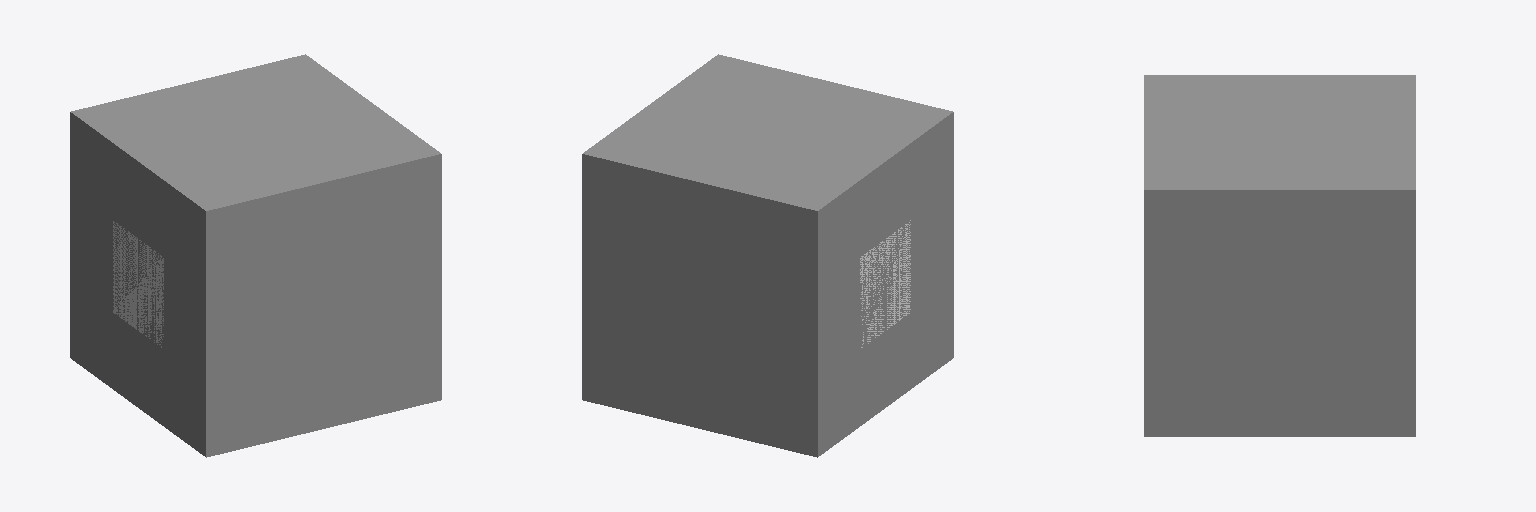
3 renders of one model, left to right at view 1: azimuth 30°, elevation 25°; view 2: azimuth 150°, elevation 25°; view 3: azimuth 270°, elevation 25°, orthographic.
Visible parts, largest first — view 1: Minecraft_Block_Cube, main; view 2: Minecraft_Block_Cube, main; view 3: Minecraft_Block_Cube.
Boxes of the visible parts, x1=… form: Minecraft_Block_Cube: x1=70, y1=54, x2=441, y2=457; main: x1=113, y1=221, x2=163, y2=347; Minecraft_Block_Cube: x1=582, y1=54, x2=953, y2=457; main: x1=860, y1=220, x2=910, y2=347; Minecraft_Block_Cube: x1=1144, y1=75, x2=1415, y2=436.
Bounding box in the file's own units: 1 × 1 × 1.
Materials: 2 (1 with a texture image).